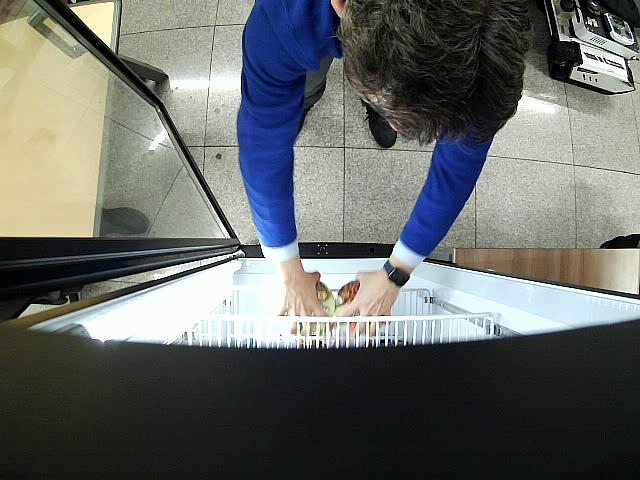00_hand: (343, 271, 399, 335), (279, 272, 327, 335)
03_chapagetti_L: (335, 280, 371, 332), (299, 281, 336, 331)
